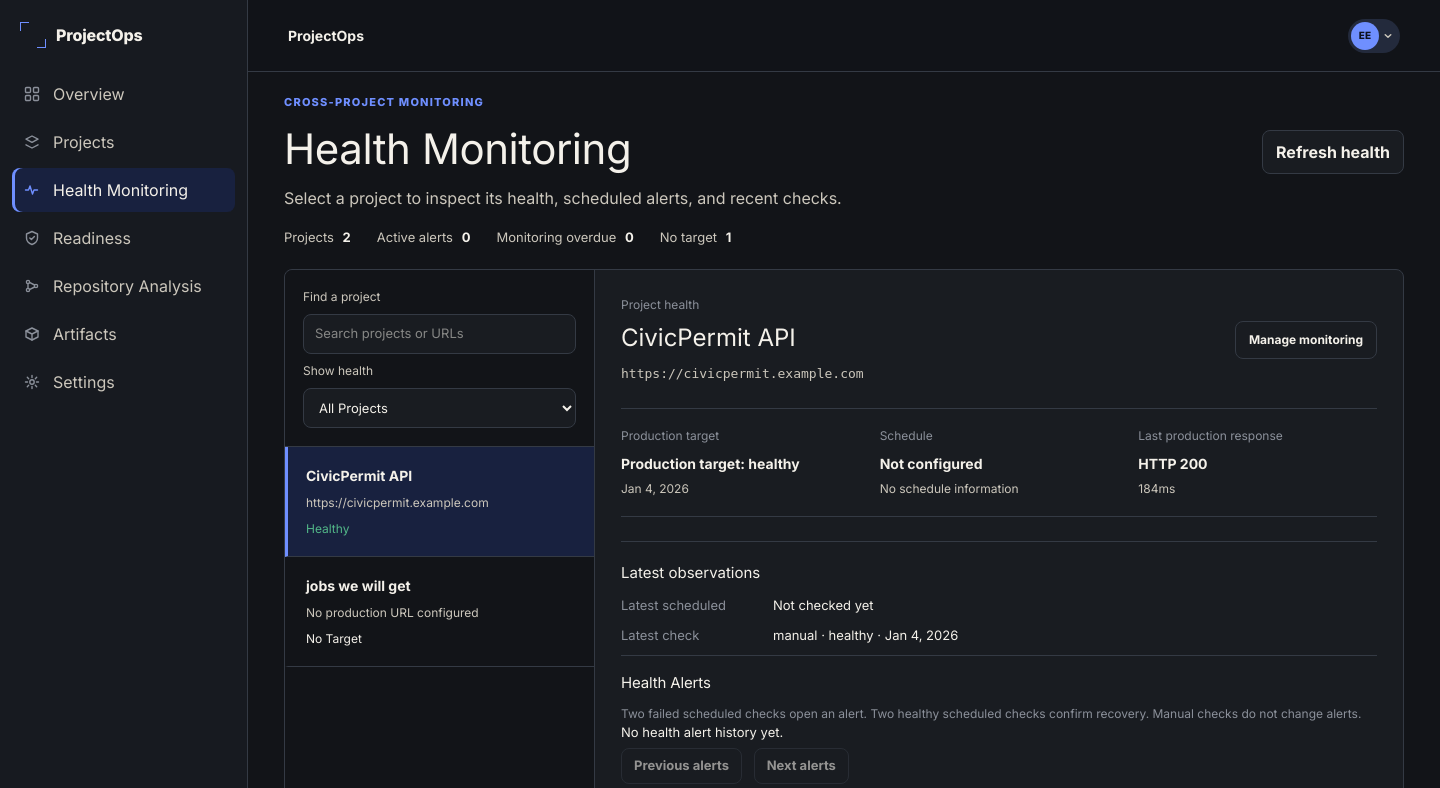
selects projects in place, preserves the URL, and clears details when search has no results
Click the button "jobs we will get No production URL configured No target". click: (440, 612)
box: [285, 557, 594, 667]
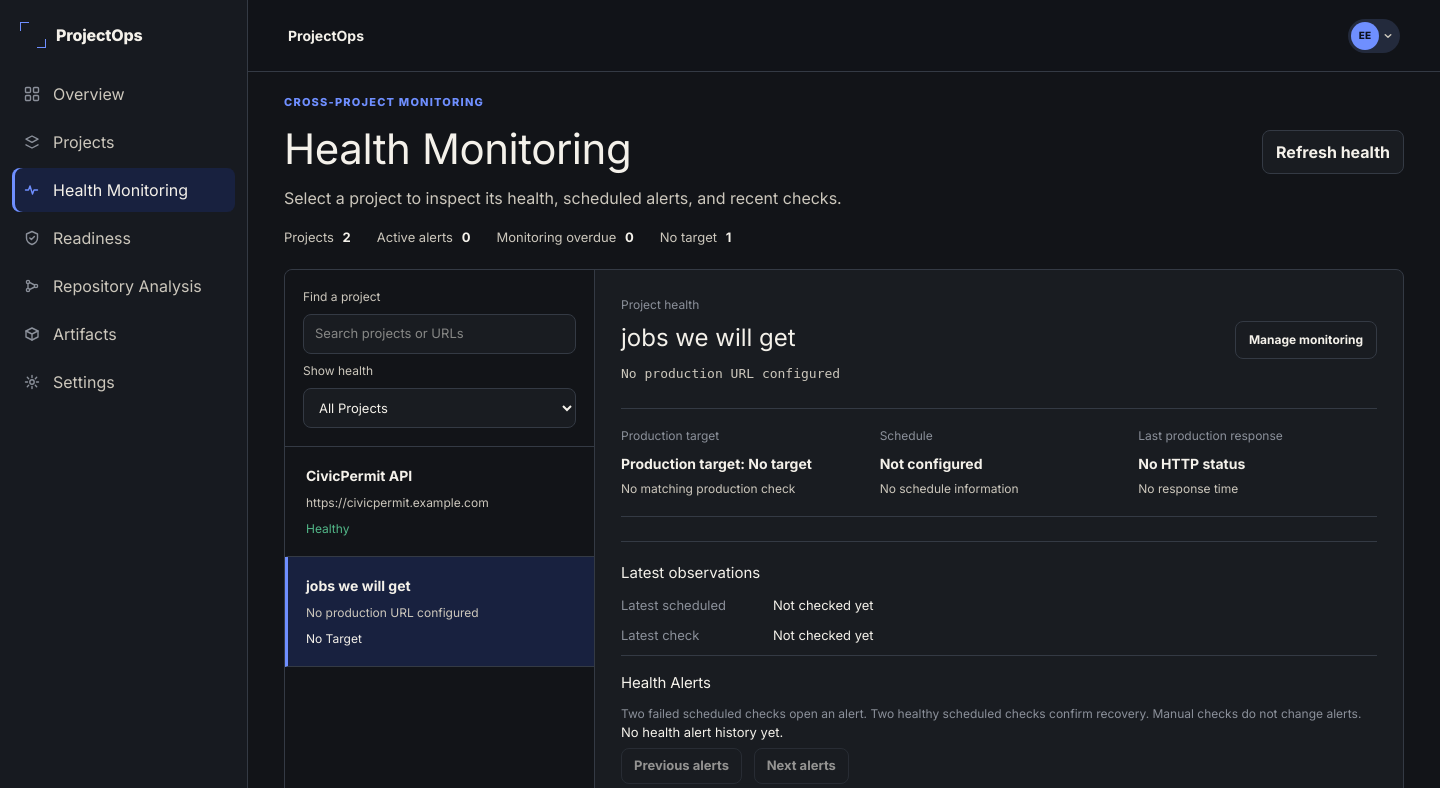
Check: the heading "jobs we will get" is shown, box [621, 323, 796, 352]
Type "absent project" into the search field labelled "Find a project". click: (440, 334)
box: [303, 314, 576, 354]
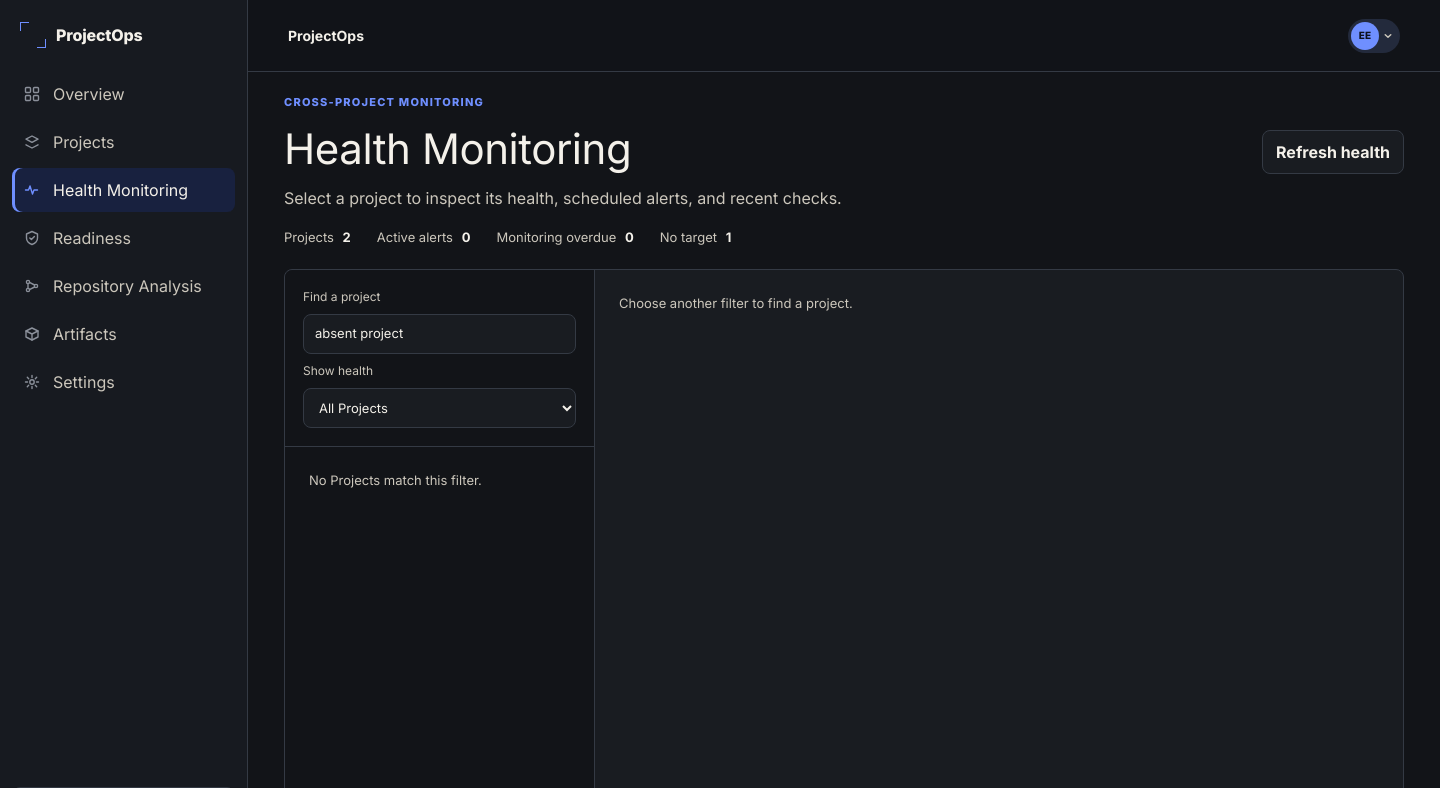
Check: the text "No Projects match this filter." is shown, box [309, 472, 482, 488]
Check: the link "Manage monitoring" is gone
